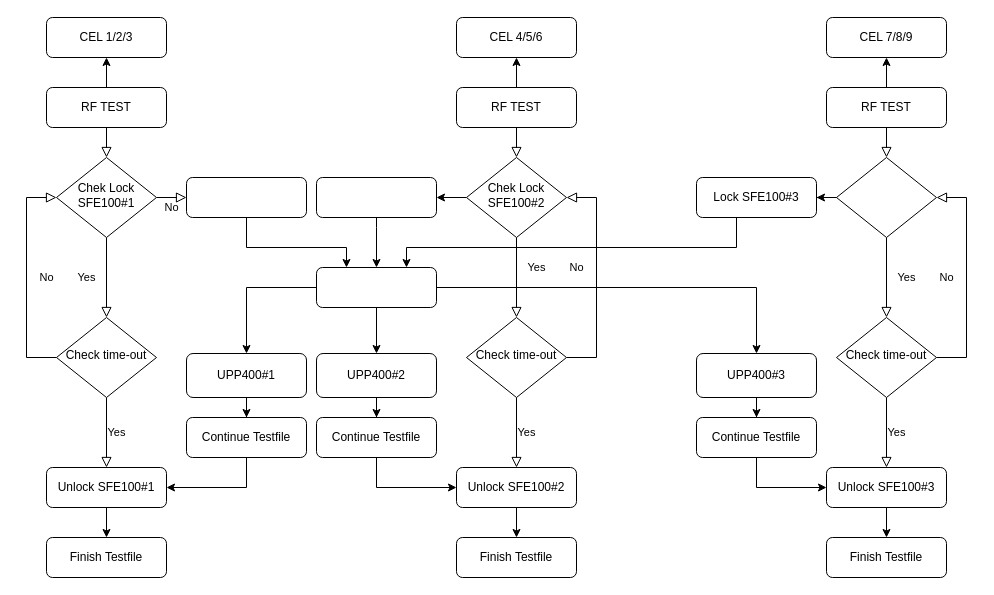
Image size: 994x595. Some labels were removed from this diagram. The shapes that lost their labels are listed below. From the top down, each one's box as (x1, y1, x2, y2) in pixels, then its label:
(186, 176, 306, 218): Lock SFE100#1
(316, 176, 436, 218): Lock SFE100#2
(836, 156, 936, 238): Chek Lock SFE100#3
(316, 266, 436, 308): XSL BOX
